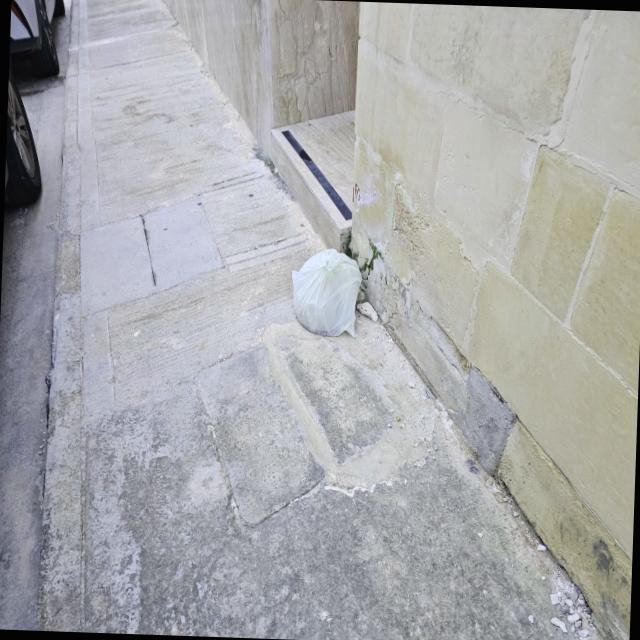white_bag: (286, 245, 366, 342)
